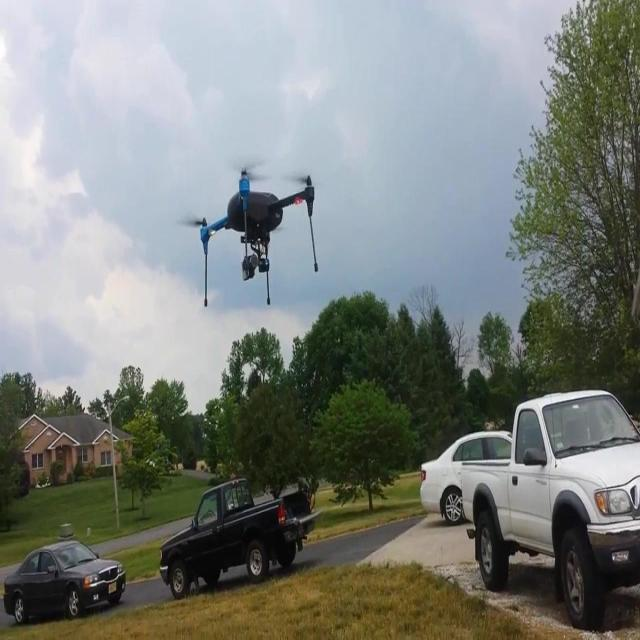drone: (181, 163, 325, 307)
